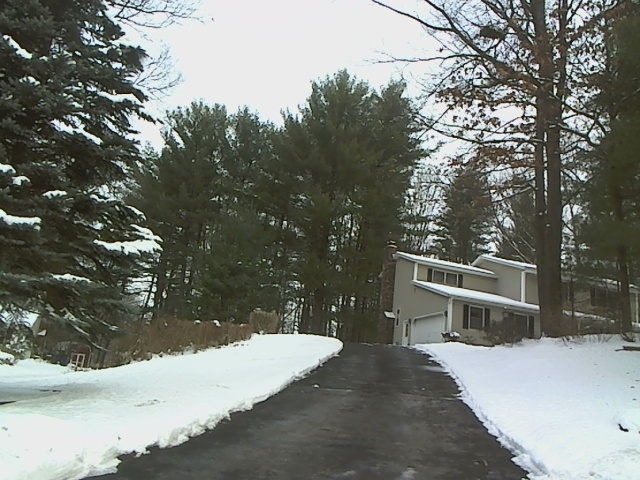Ploughed: (240, 337, 464, 477)
